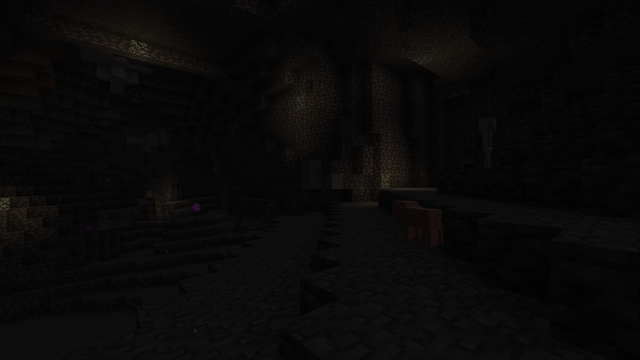cochons: (397, 204, 438, 246)
squelettes: (476, 116, 498, 157)
